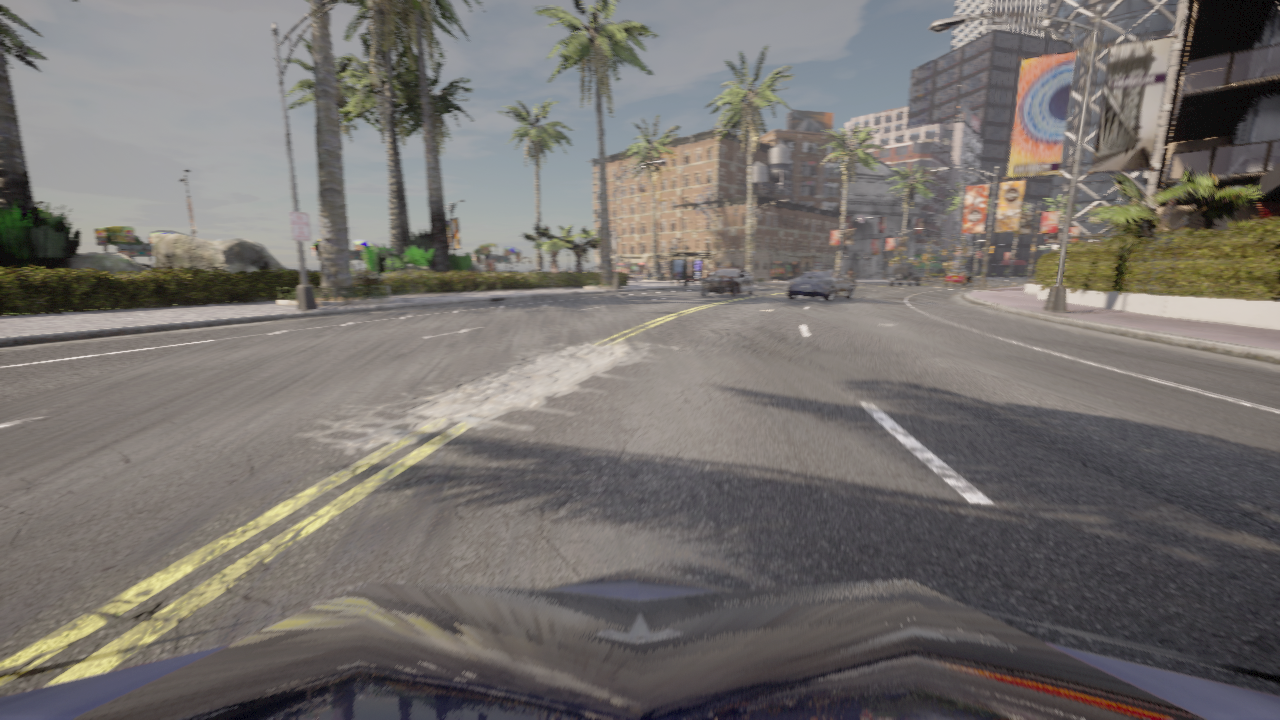cyclist: (0, 569, 1279, 719), (787, 270, 854, 301), (700, 265, 755, 296), (889, 266, 921, 286), (945, 270, 973, 286), (848, 276, 856, 288)
